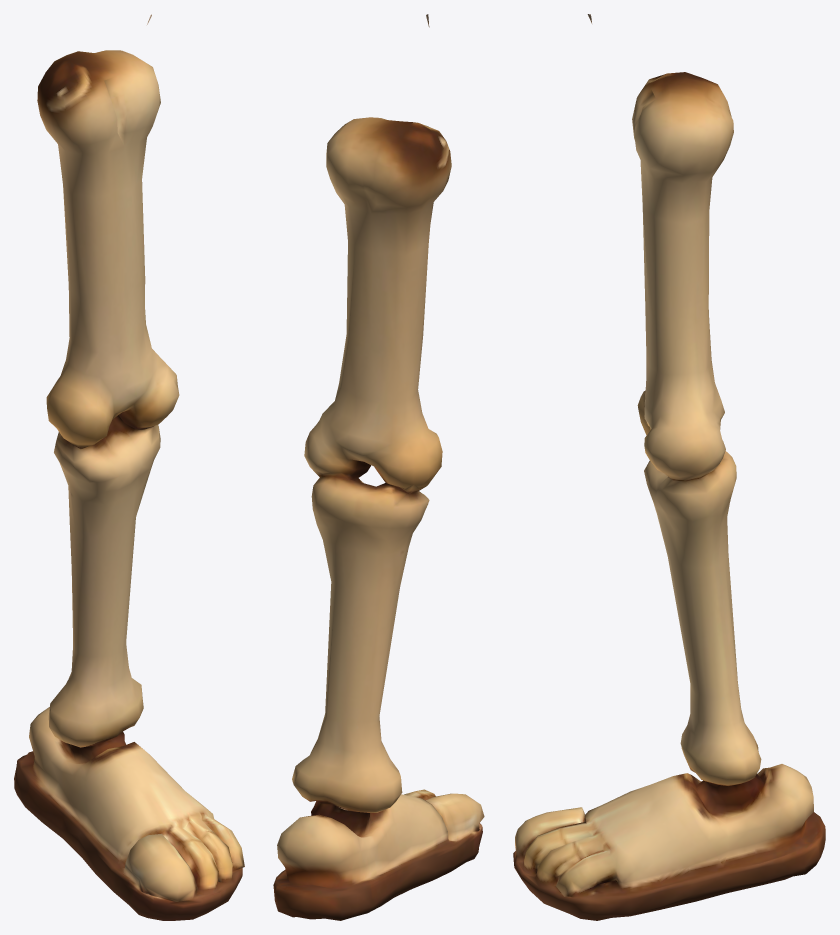
File: pierIzq.obj
The picture shows the model from 3 angles, left to right: view 1: azimuth 30°, elevation 25°; view 2: azimuth 150°, elevation 25°; view 3: azimuth 270°, elevation 25°; orthographic projection. The views are drawn at different scales.
Parts seen in each view (by area): view 1: pierIzq; view 2: pierIzq; view 3: pierIzq.
Boxes of the visible parts, left/top/right/bottom form: pierIzq: left=14, top=14, right=244, bottom=920; pierIzq: left=273, top=14, right=484, bottom=920; pierIzq: left=513, top=14, right=825, bottom=920.
Size of the model in its own units: 0.0938 by 0.526 by 0.1712.
Materials: 1 (1 with a texture image).
